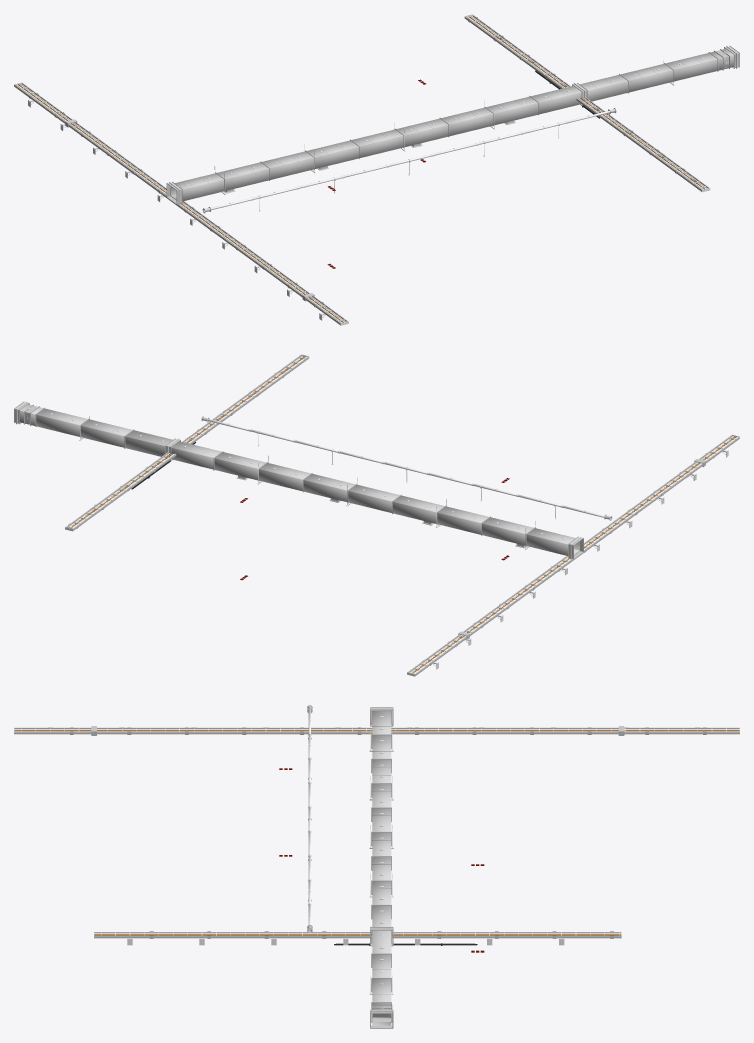
The model's file is p0b4_z10_services.glb.
3 renders of one model, top to bottom at view 1: azimuth 30°, elevation 25°; view 2: azimuth 150°, elevation 25°; view 3: azimuth 270°, elevation 25°, orthographic. The views are drawn at different scales.
Visible parts, largest first — view 1: P0B4_HVAC_RUN_800x600, P0B4_TRAY_WEST, P0B4_HVAC_LINK_RUN, P0B4_TRAY_EAST, P0B4_SPRINKLER_RUN_DN80; view 2: P0B4_HVAC_RUN_800x600, P0B4_TRAY_WEST, P0B4_HVAC_LINK_RUN, P0B4_TRAY_EAST, P0B4_SPRINKLER_RUN_DN80; view 3: P0B4_TRAY_WEST, P0B4_HVAC_RUN_800x600, P0B4_TRAY_EAST, P0B4_HVAC_LINK_RUN, P0B4_SPRINKLER_RUN_DN80.
Boxes of the visible parts, x1=… form: P0B4_HVAC_RUN_800x600: x1=170, y1=86, x2=581, y2=201; P0B4_TRAY_WEST: x1=14, y1=82, x2=348, y2=325; P0B4_HVAC_LINK_RUN: x1=580, y1=48, x2=733, y2=101; P0B4_TRAY_EAST: x1=464, y1=14, x2=710, y2=192; P0B4_SPRINKLER_RUN_DN80: x1=211, y1=111, x2=609, y2=209; P0B4_HVAC_RUN_800x600: x1=171, y1=441, x2=579, y2=555; P0B4_TRAY_WEST: x1=407, y1=434, x2=739, y2=676; P0B4_HVAC_LINK_RUN: x1=20, y1=404, x2=172, y2=456; P0B4_TRAY_EAST: x1=65, y1=354, x2=309, y2=531; P0B4_SPRINKLER_RUN_DN80: x1=207, y1=419, x2=604, y2=517; P0B4_TRAY_WEST: x1=14, y1=727, x2=739, y2=734; P0B4_HVAC_RUN_800x600: x1=371, y1=711, x2=391, y2=943; P0B4_TRAY_EAST: x1=94, y1=931, x2=621, y2=945; P0B4_HVAC_LINK_RUN: x1=371, y1=930, x2=391, y2=1025; P0B4_SPRINKLER_RUN_DN80: x1=308, y1=709, x2=311, y2=929.
Bounding box in the file's own units: 30.17 × 4.19 × 30.28.
13 materials, 2 textured.
